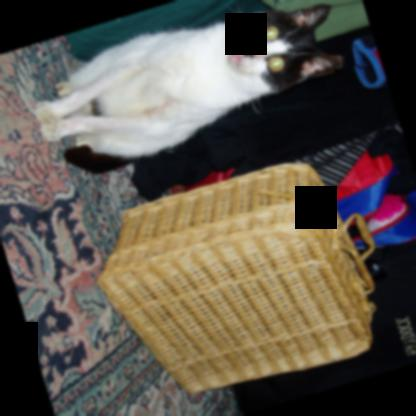suitcase: (100, 163, 376, 392), (227, 235, 416, 416)
